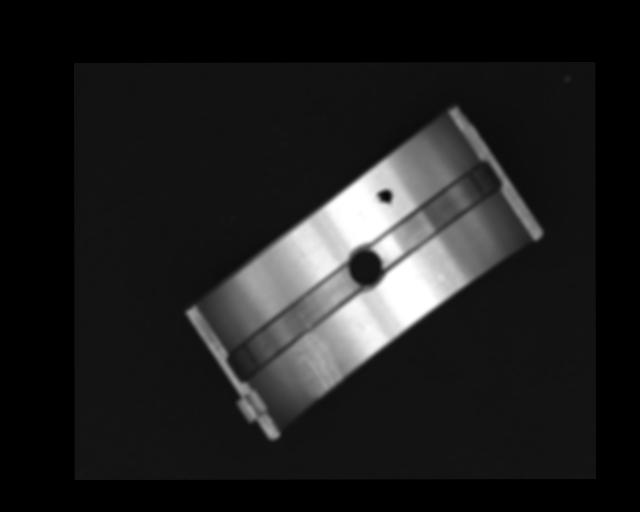blot: (372, 188, 394, 209)
gap: (230, 263, 360, 378), (373, 161, 501, 263)
hole: (348, 248, 383, 287)
nick: (417, 248, 449, 285), (292, 239, 313, 267)
scratch: (294, 332, 341, 395)
